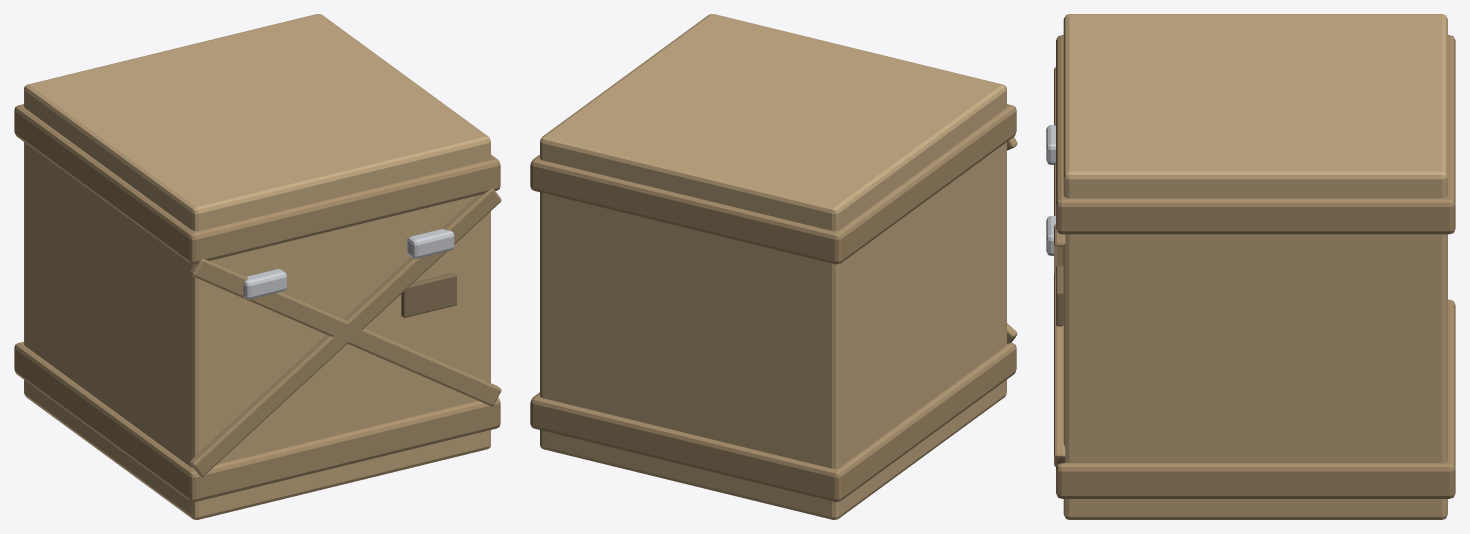
File: ящик.glb
The picture shows the model from 3 angles, left to right: view 1: azimuth 30°, elevation 25°; view 2: azimuth 150°, elevation 25°; view 3: azimuth 270°, elevation 25°; orthographic projection. The views are drawn at different scales.
Visible parts, largest first — view 1: ящик; view 2: ящик; view 3: ящик.
Boxes of the visible parts, <box> form: ящик: <box>14,14,501,519</box>; ящик: <box>530,14,1017,519</box>; ящик: <box>1046,14,1455,519</box>.
Bounding box in the file's own units: 1.04 × 1 × 1.06.
